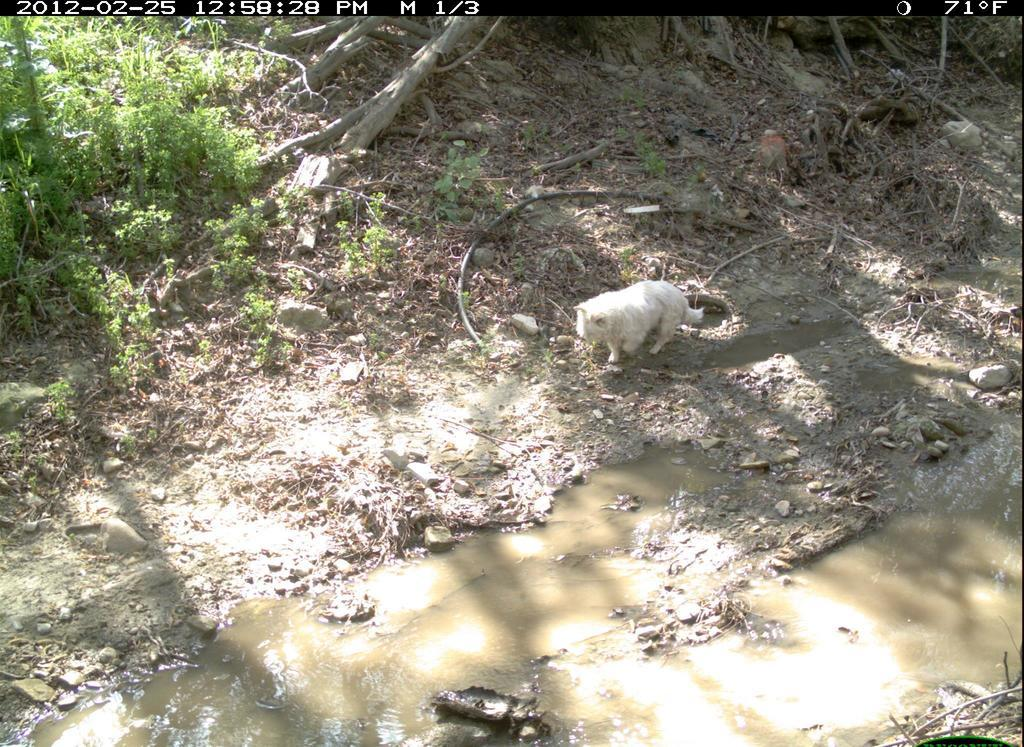dog: (568, 277, 711, 369)
